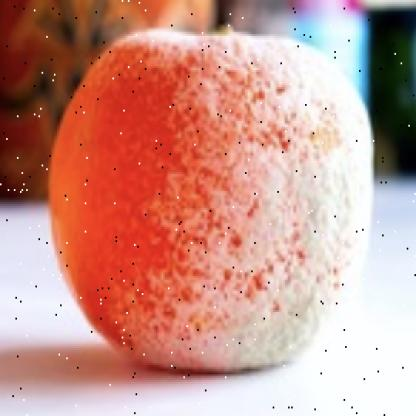rotten: (52, 29, 375, 373)
